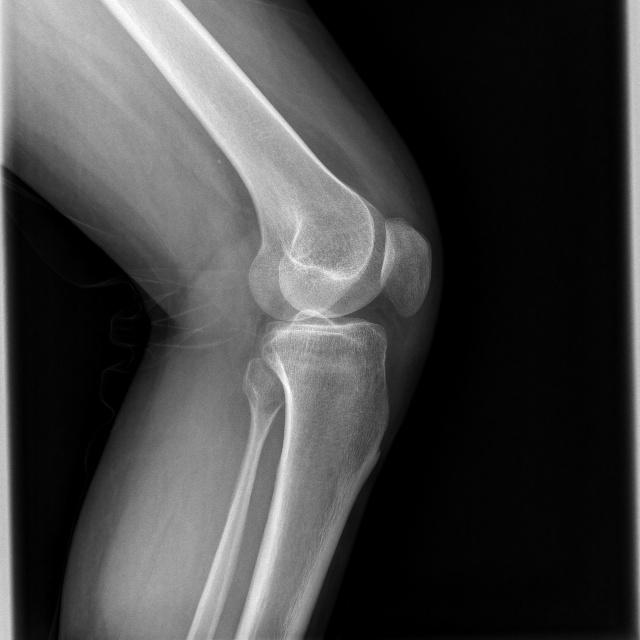Knee: (243, 213, 434, 401)
